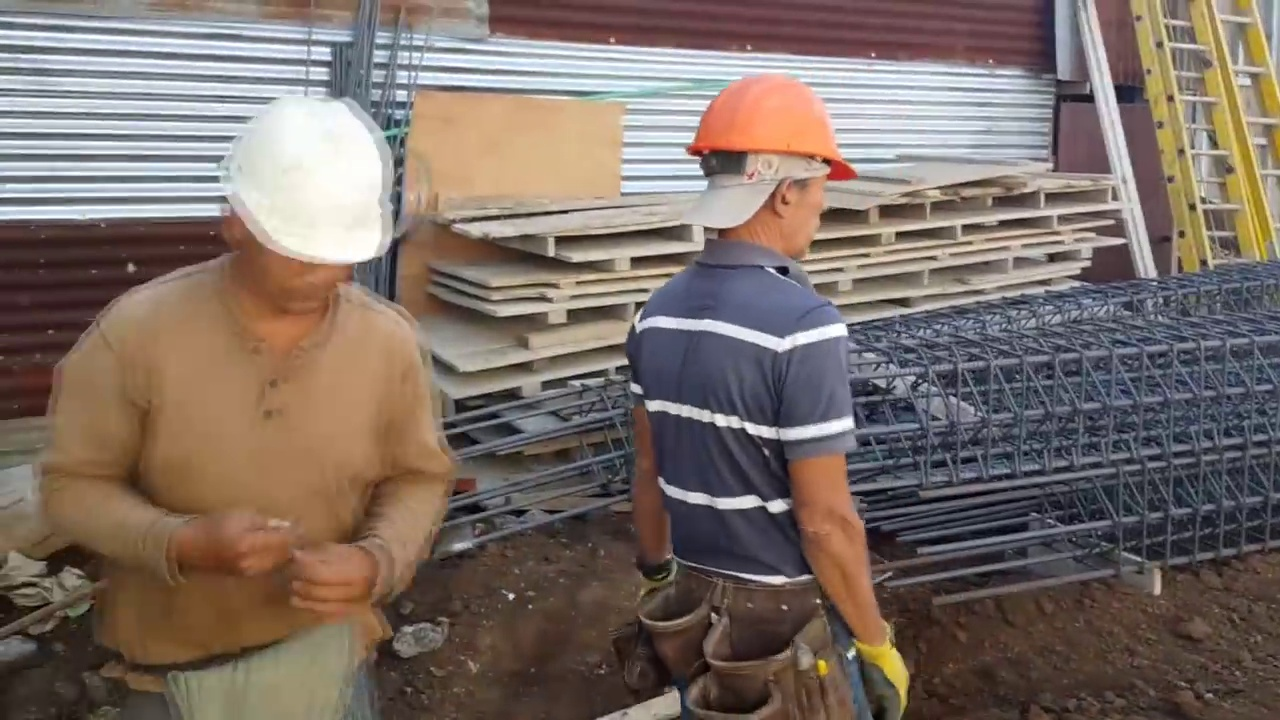helmet: (228, 96, 384, 264), (677, 72, 861, 191)
helmet-on: (224, 94, 396, 363), (669, 83, 866, 274)
person: (28, 81, 490, 720), (629, 64, 931, 720)
